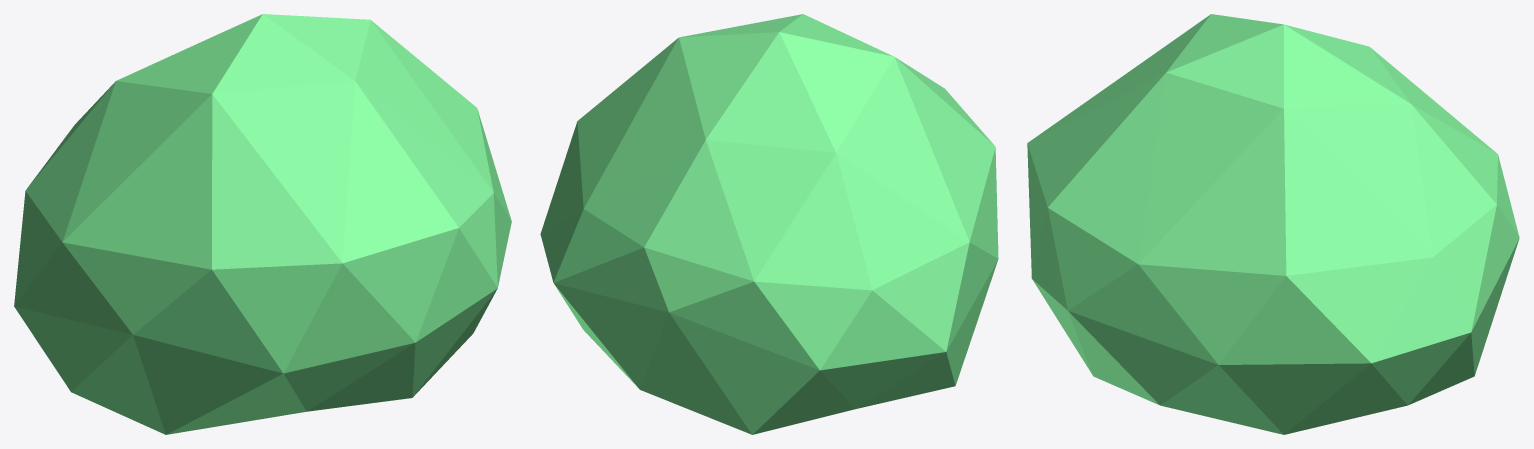
Rendered from Grass Pile 4.fbx.
3 views of the same model, side by side, from view 1: azimuth 30°, elevation 25°; view 2: azimuth 150°, elevation 25°; view 3: azimuth 270°, elevation 25° (orthographic). The views are drawn at different scales.
Parts seen in each view (by area): view 1: Icosphere; view 2: Icosphere; view 3: Icosphere.
Boxes of the visible parts, <box> form: Icosphere: <box>14,14,511,434</box>; Icosphere: <box>540,14,998,434</box>; Icosphere: <box>1027,14,1519,434</box>.
Bounding box in the file's own units: 14.3 × 11.19 × 14.23.
